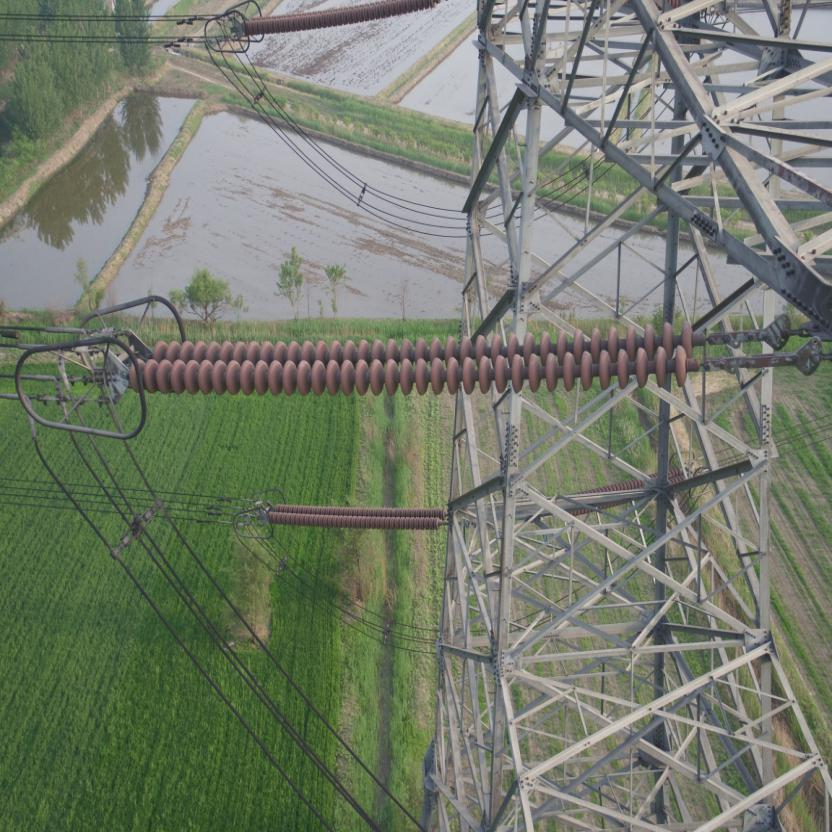insulator: (120, 318, 744, 396), (235, 0, 438, 40), (264, 501, 448, 530)
